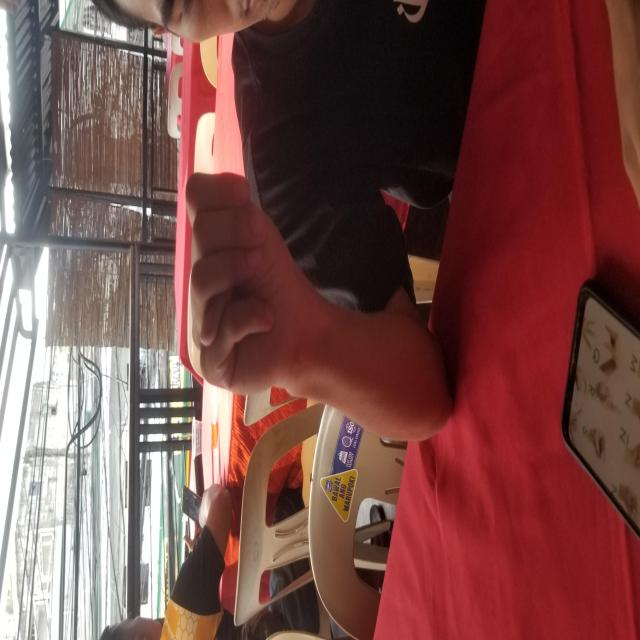M: (142, 128, 350, 456)
